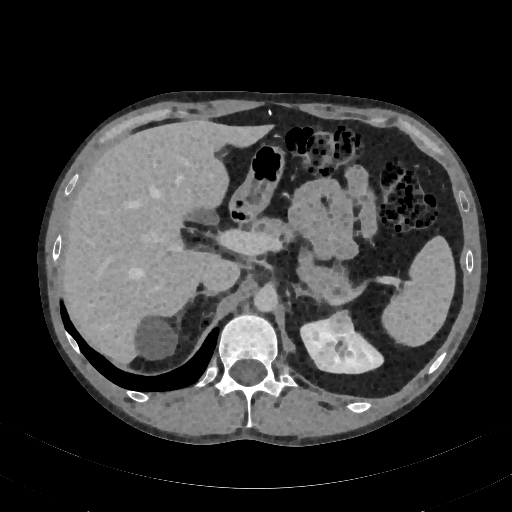Lesion: (329, 307, 355, 339)
